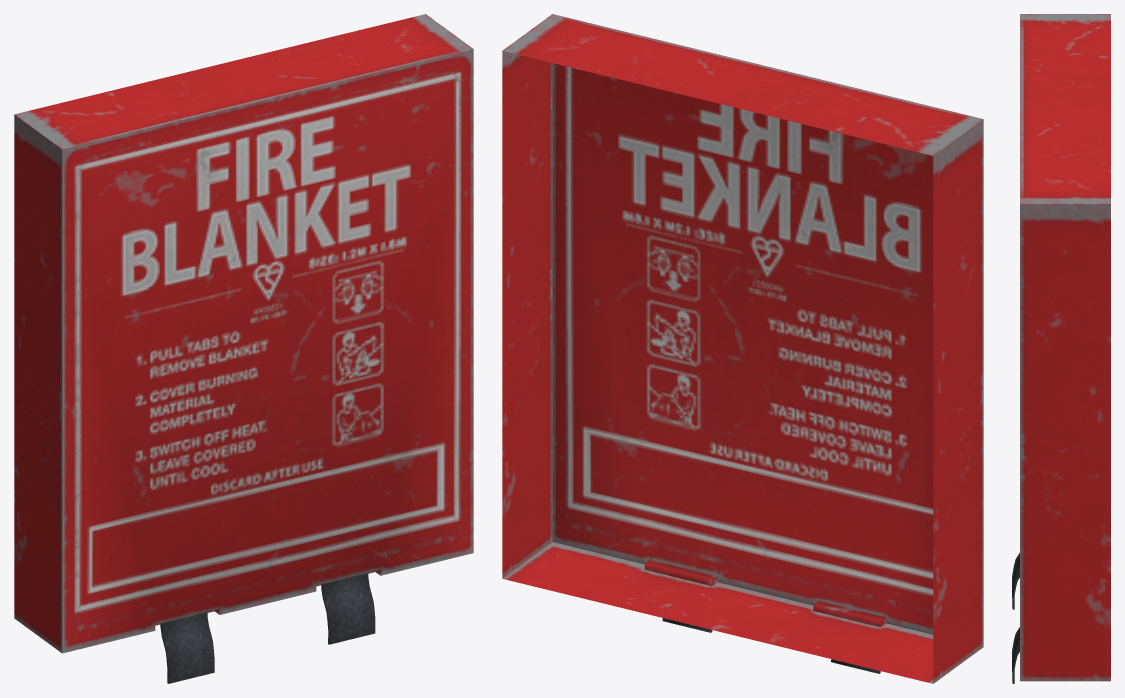
Rendered from SM_FireBlanket.fbx.
3 renders of one model, left to right at view 1: azimuth 30°, elevation 25°; view 2: azimuth 150°, elevation 25°; view 3: azimuth 270°, elevation 25°, orthographic. The views are drawn at different scales.
Parts seen in each view (by area): view 1: SM_FireBlanket; view 2: SM_FireBlanket; view 3: SM_FireBlanket.
Boxes of the visible parts, box(x1,y1,x2,y2) form: SM_FireBlanket: box(14, 14, 473, 683); SM_FireBlanket: box(502, 14, 983, 683); SM_FireBlanket: box(1012, 14, 1110, 683).
Bounding box in the file's own units: 44.41 × 9.74 × 57.4.
1 material, 1 textured.
